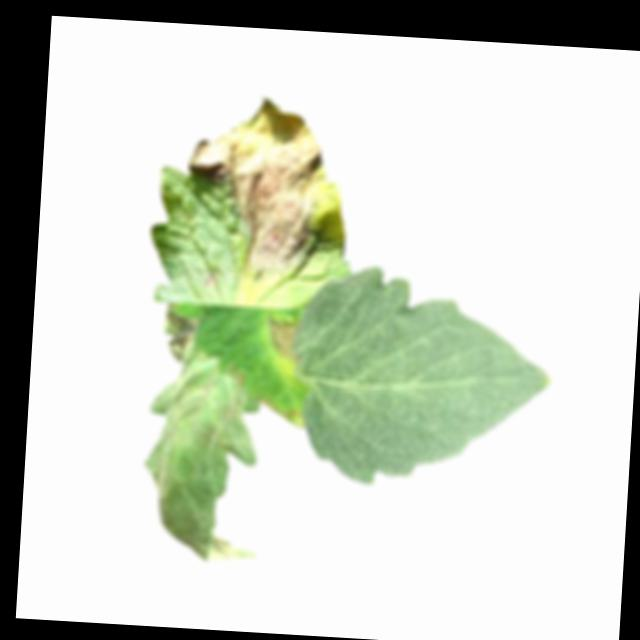Late_blight: (181, 90, 350, 286), (134, 348, 270, 564), (157, 302, 199, 362), (266, 315, 305, 368), (203, 268, 222, 292)
